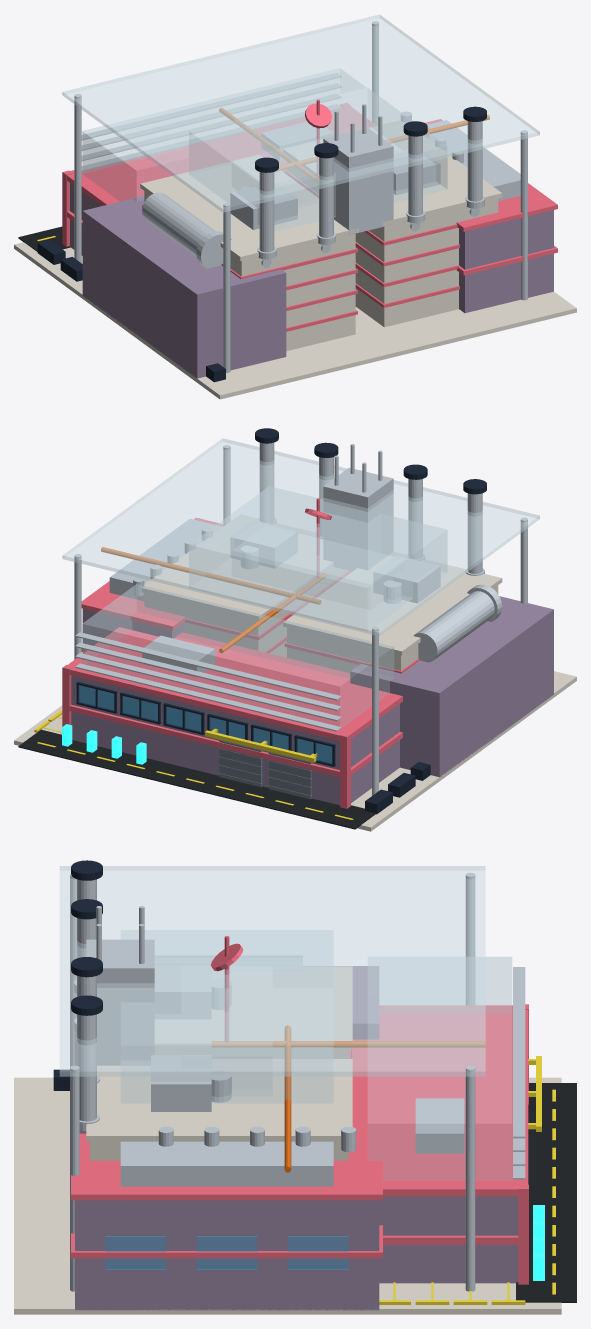
The model's file is hq_02_powertrain_l5.glb.
3 renders of one model, top to bottom at view 1: azimuth 30°, elevation 25°; view 2: azimuth 150°, elevation 25°; view 3: azimuth 270°, elevation 25°, orthographic. The views are drawn at different scales.
Visible parts, largest first — view 1: GEO_Photovoltaic_Solar_Canopy, GEO_Dyno_Bunkers_Concrete, GEO_West_Turbo_Wing, GEO_Plinth_Foundation, GEO_HV_Battery_Testing_Chamber, GEO_Curtain_Glass_Mezzanine, GEO_Workshop_Structural_Beams, GEO_East_Transmission_Wing, GEO_Emissions_Analyzer_Tower, GEO_Exhaust_Stacks_Pipes, GEO_South_Sunshade_Louvers, GEO_Solar_Canopy_Pylons (+11 smaller); view 2: GEO_Photovoltaic_Solar_Canopy, GEO_Dyno_Bunkers_Concrete, GEO_Curtain_Glass_Mezzanine, GEO_West_Turbo_Wing, GEO_Workshop_Structural_Beams, GEO_Front_Workshop_Brick, GEO_HV_Battery_Testing_Chamber, GEO_Emissions_Analyzer_Tower, GEO_Front_Apron_Asphalt, GEO_South_Sunshade_Louvers, GEO_Rooftop_HVAC_Blowers, GEO_Exhaust_Stacks_Pipes (+15 smaller); view 3: GEO_Photovoltaic_Solar_Canopy, GEO_East_Transmission_Wing, GEO_Dyno_Bunkers_Concrete, GEO_Workshop_Structural_Beams, GEO_Curtain_Glass_Mezzanine, GEO_Plinth_Foundation, GEO_HV_Battery_Testing_Chamber, GEO_Transmission_Acoustic_Silencers, GEO_East_Structural_Beams, GEO_Rooftop_HVAC_Blowers, GEO_Front_Workshop_Brick, GEO_Front_Apron_Asphalt (+13 smaller).
Part boxes in pixels (x1,y1,x2,y2): GEO_Photovoltaic_Solar_Canopy: (62, 14, 539, 212); GEO_Dyno_Bunkers_Concrete: (140, 121, 502, 351); GEO_West_Turbo_Wing: (82, 196, 286, 378); GEO_Plinth_Foundation: (14, 242, 576, 399); GEO_HV_Battery_Testing_Chamber: (189, 88, 447, 231); GEO_Curtain_Glass_Mezzanine: (82, 68, 365, 201); GEO_Workshop_Structural_Beams: (62, 103, 376, 246); GEO_East_Transmission_Wing: (459, 210, 553, 313); GEO_Emissions_Analyzer_Tower: (323, 104, 393, 234); GEO_Exhaust_Stacks_Pipes: (257, 121, 484, 267); GEO_South_Sunshade_Louvers: (81, 73, 341, 171); GEO_Solar_Canopy_Pylons: (74, 21, 527, 372); GEO_Photovoltaic_Solar_Canopy: (62, 438, 539, 636); GEO_Dyno_Bunkers_Concrete: (141, 514, 502, 672); GEO_Curtain_Glass_Mezzanine: (82, 584, 394, 727); GEO_West_Turbo_Wing: (350, 596, 553, 777); GEO_Workshop_Structural_Beams: (62, 627, 402, 808); GEO_Front_Workshop_Brick: (71, 675, 399, 805); GEO_HV_Battery_Testing_Chamber: (189, 486, 447, 631); GEO_Emissions_Analyzer_Tower: (323, 444, 393, 570); GEO_Front_Apron_Asphalt: (18, 729, 375, 829); GEO_South_Sunshade_Louvers: (75, 632, 341, 731); GEO_Rooftop_HVAC_Blowers: (142, 521, 440, 676); GEO_Exhaust_Stacks_Pipes: (257, 442, 484, 575); GEO_Photovoltaic_Solar_Canopy: (59, 866, 485, 1076); GEO_East_Transmission_Wing: (75, 1200, 379, 1310); GEO_Dyno_Bunkers_Concrete: (86, 966, 352, 1160); GEO_Workshop_Structural_Beams: (351, 1004, 528, 1284); GEO_Curtain_Glass_Mezzanine: (368, 956, 512, 1180); GEO_Plinth_Foundation: (14, 1077, 561, 1314); GEO_HV_Battery_Testing_Chamber: (120, 930, 333, 1103); GEO_Transmission_Acoustic_Silencers: (120, 1126, 356, 1186); GEO_East_Structural_Beams: (71, 1133, 382, 1258); GEO_Rooftop_HVAC_Blowers: (151, 963, 464, 1153); GEO_Front_Workshop_Brick: (379, 1196, 518, 1283); GEO_Front_Apron_Asphalt: (516, 1083, 576, 1302).
Size of what is drawn, in the model's own units: 37.5 by 20.5 by 37.
